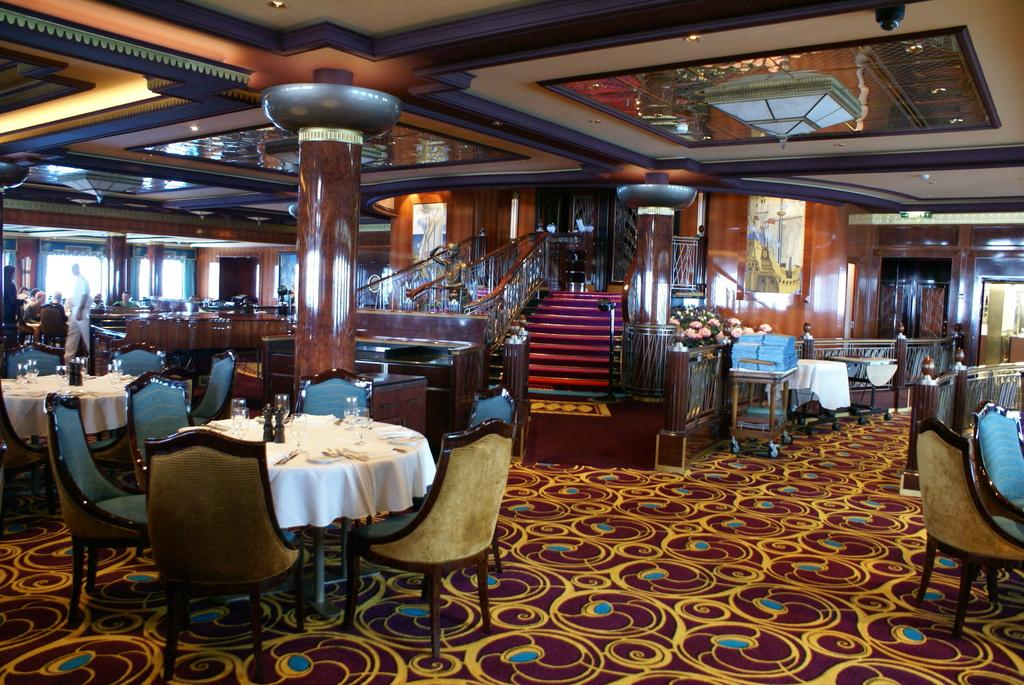Chair: (142, 426, 306, 683), (343, 416, 516, 659), (43, 391, 150, 624), (914, 416, 1023, 638)
